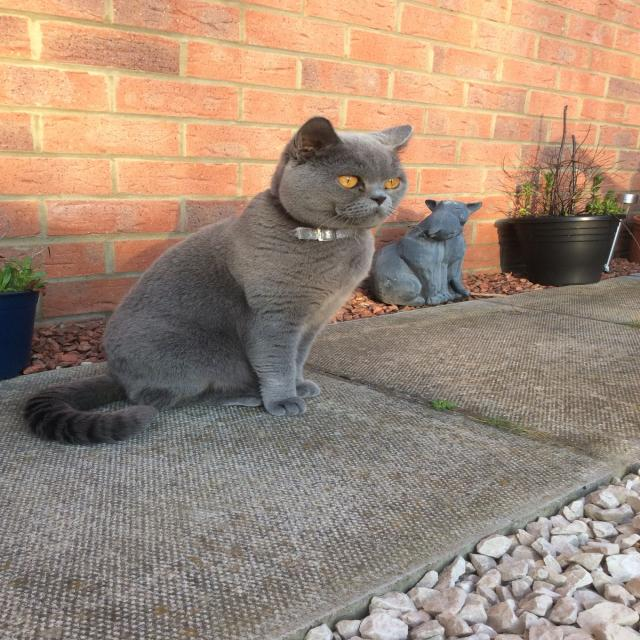british shorthair: (0, 63, 567, 494)
